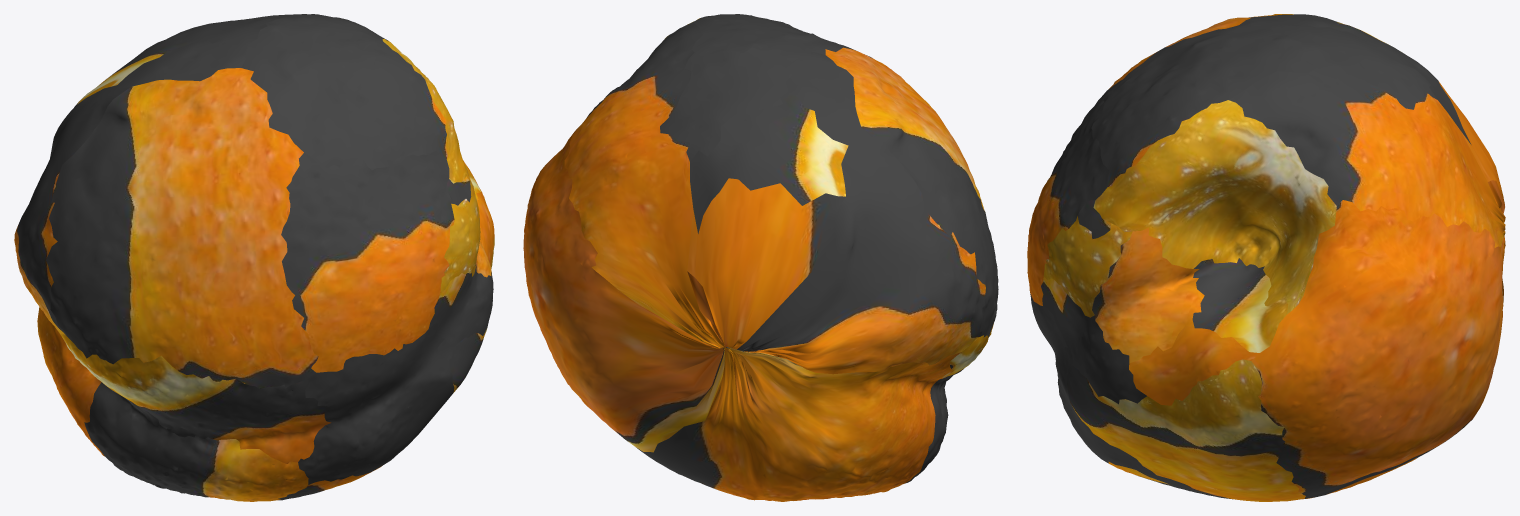
3 renders of one model, left to right at view 1: azimuth 30°, elevation 25°; view 2: azimuth 150°, elevation 25°; view 3: azimuth 270°, elevation 25°, orthographic. The views are drawn at different scales.
Bounding box in the file's own units: 1 × 0.9467 × 0.898.
